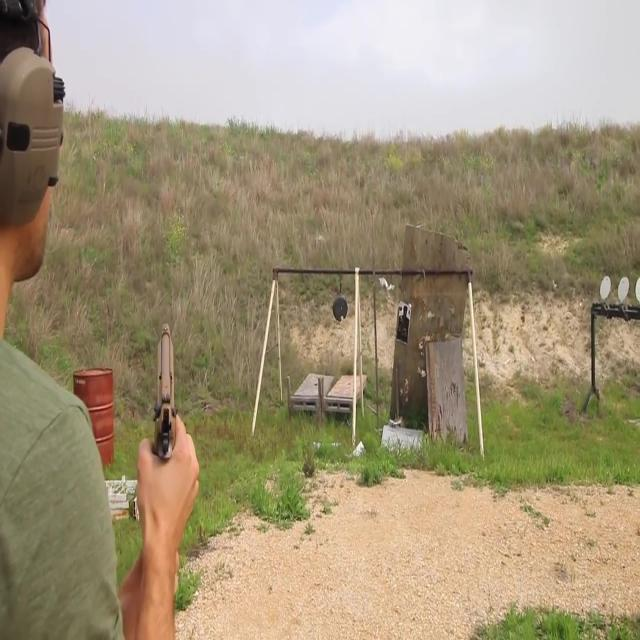Weapon: (133, 291, 251, 539)
